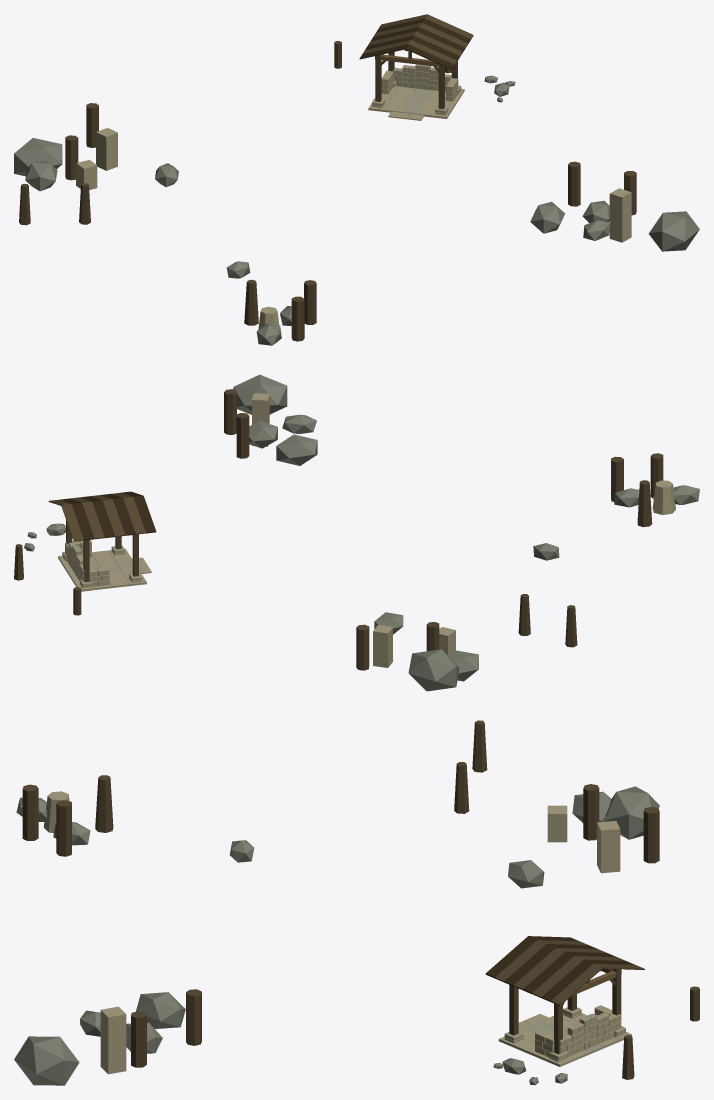
The model's file is path_crossroads_copse_solid_props.fbx.
The picture shows the model from 3 angles, top to bottom: view 1: azimuth 30°, elevation 25°; view 2: azimuth 150°, elevation 25°; view 3: azimuth 270°, elevation 25°; orthographic projection. The views are drawn at different scales.
Visible parts, largest first — view 1: chunk_path_crossroads_copse__PropsSolid; view 2: chunk_path_crossroads_copse__PropsSolid; view 3: chunk_path_crossroads_copse__PropsSolid.
Part boxes in pixels (x1,y1,x2,y2): chunk_path_crossroads_copse__PropsSolid: (14, 14, 699, 345); chunk_path_crossroads_copse__PropsSolid: (14, 374, 699, 691); chunk_path_crossroads_copse__PropsSolid: (14, 720, 699, 1085).
Bounding box in the file's own units: 191 × 28.71 × 175.
